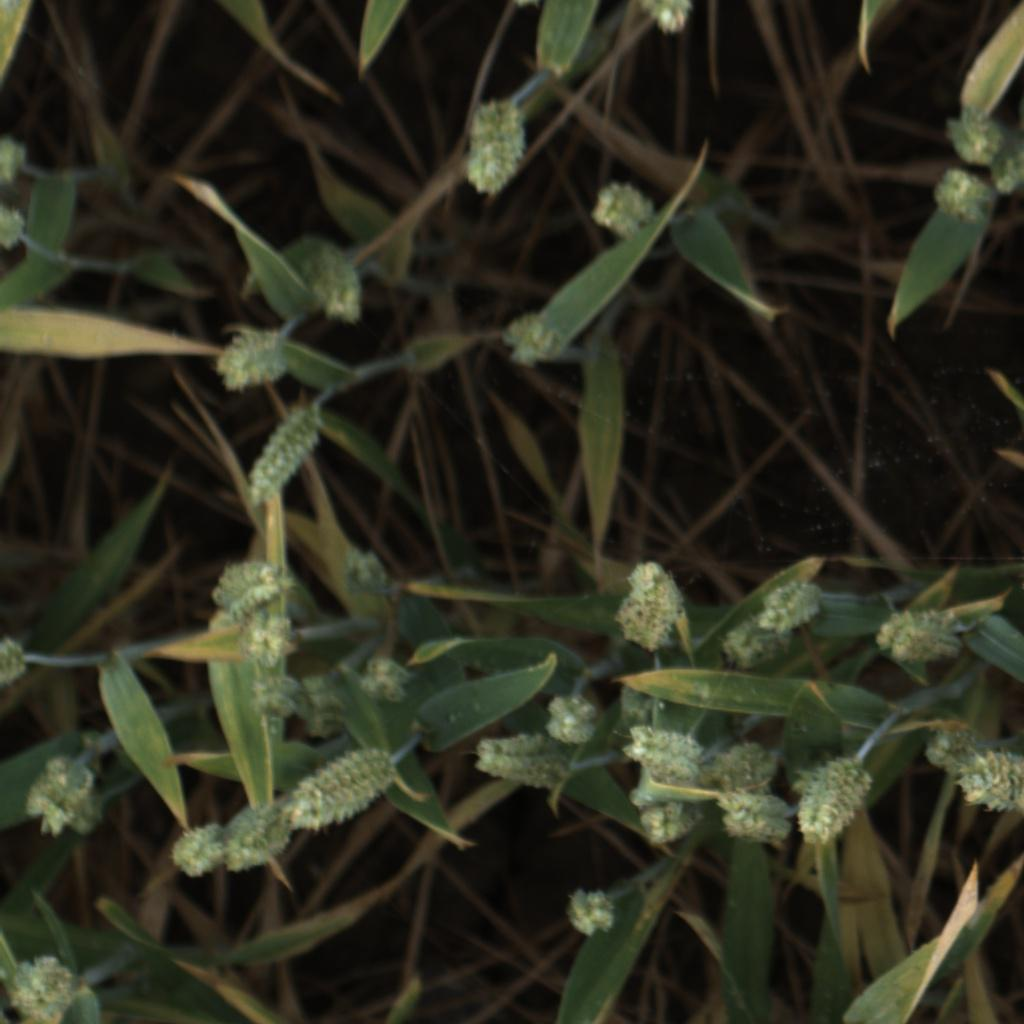0-0: (288, 743, 397, 830), (244, 405, 324, 505), (612, 556, 691, 656), (797, 750, 876, 847), (462, 93, 530, 199), (911, 712, 1000, 788), (866, 602, 966, 669), (22, 746, 92, 839), (469, 730, 565, 795), (627, 713, 704, 792), (301, 243, 368, 331), (217, 802, 292, 878), (7, 949, 82, 1023), (949, 749, 1024, 821), (241, 667, 306, 746), (710, 787, 794, 848), (208, 326, 288, 390), (210, 553, 293, 614), (586, 174, 657, 241), (496, 306, 567, 371), (939, 100, 1009, 164), (715, 617, 791, 675), (711, 733, 790, 788), (754, 573, 825, 633), (930, 167, 999, 226), (541, 688, 604, 749), (163, 818, 224, 879), (234, 610, 299, 666), (561, 883, 622, 941), (637, 796, 702, 849), (337, 542, 388, 603), (361, 646, 413, 704), (633, 0, 703, 39), (987, 129, 1024, 196)
